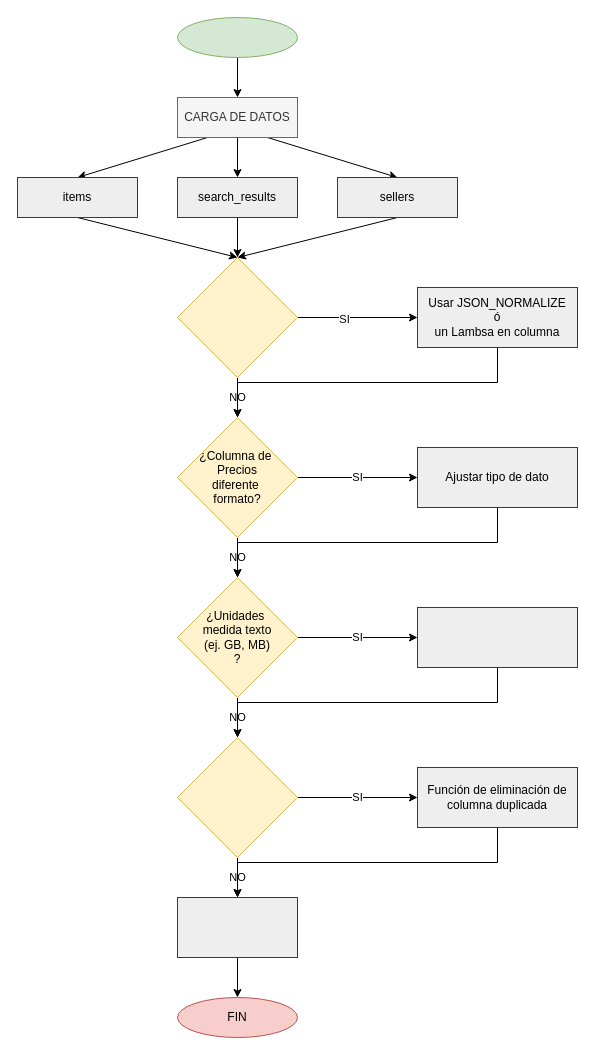
The diagram is 595 pixels wide and 1055 high, and some of its shapes have lost their labels. The centre of each missing label's shape, as x and y in pixels:
Convertir en Bytes para uso general: the point at 497,637
Datos listos para análisis: the point at 237,927
INICIO: the point at 237,37
¿Columna formato JSON?: the point at 237,317
¿Columnas duplicadas?: the point at 237,797
